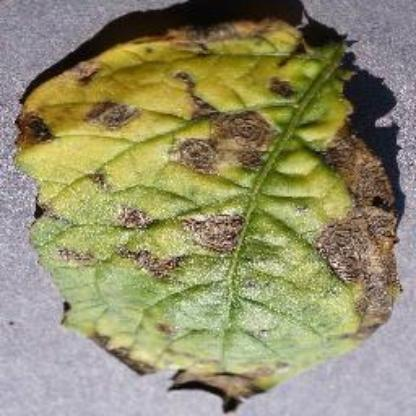Early-Blight: (15, 10, 405, 406)
